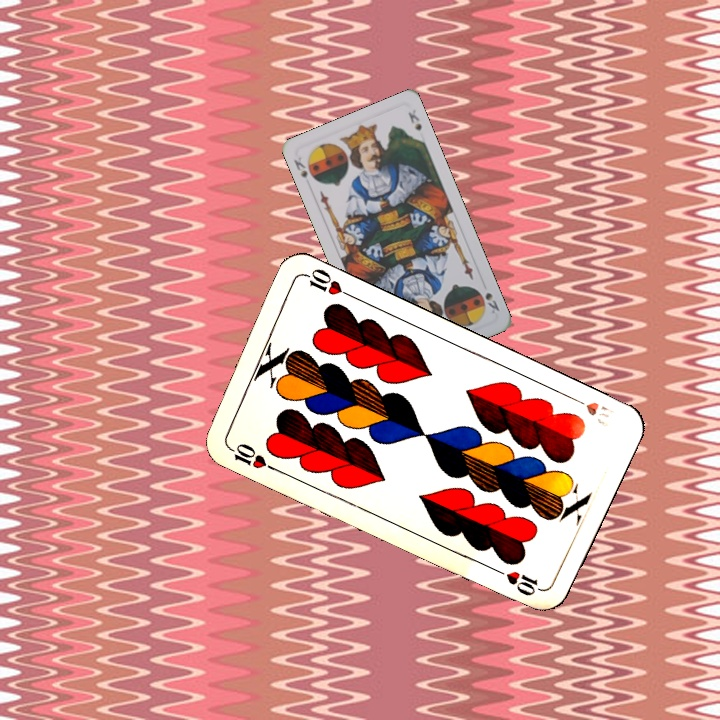H10: (566, 392, 617, 430), (223, 439, 278, 473)
SK: (290, 153, 319, 184), (474, 285, 502, 316)
